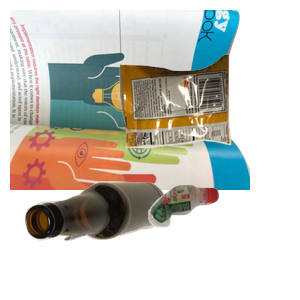glass: (23, 179, 183, 300)
paper: (10, 10, 250, 190)
plastic: (146, 182, 300, 300)
trash: (117, 52, 300, 193)
